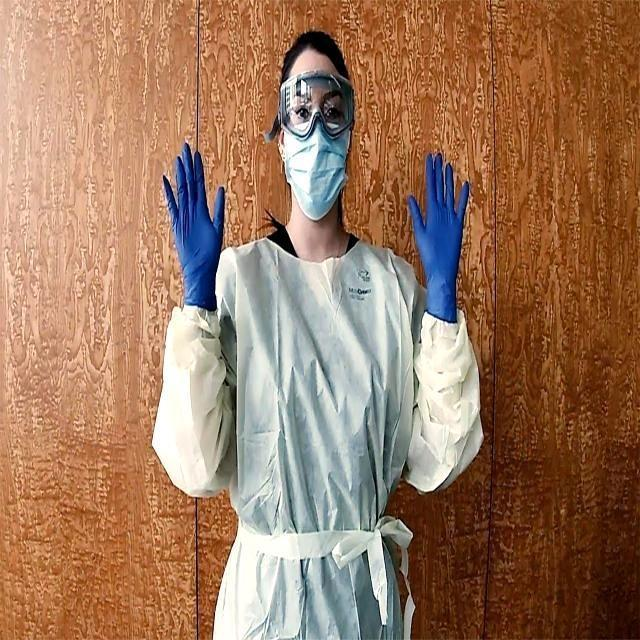apron: (156, 127, 238, 316), (398, 140, 473, 314)
